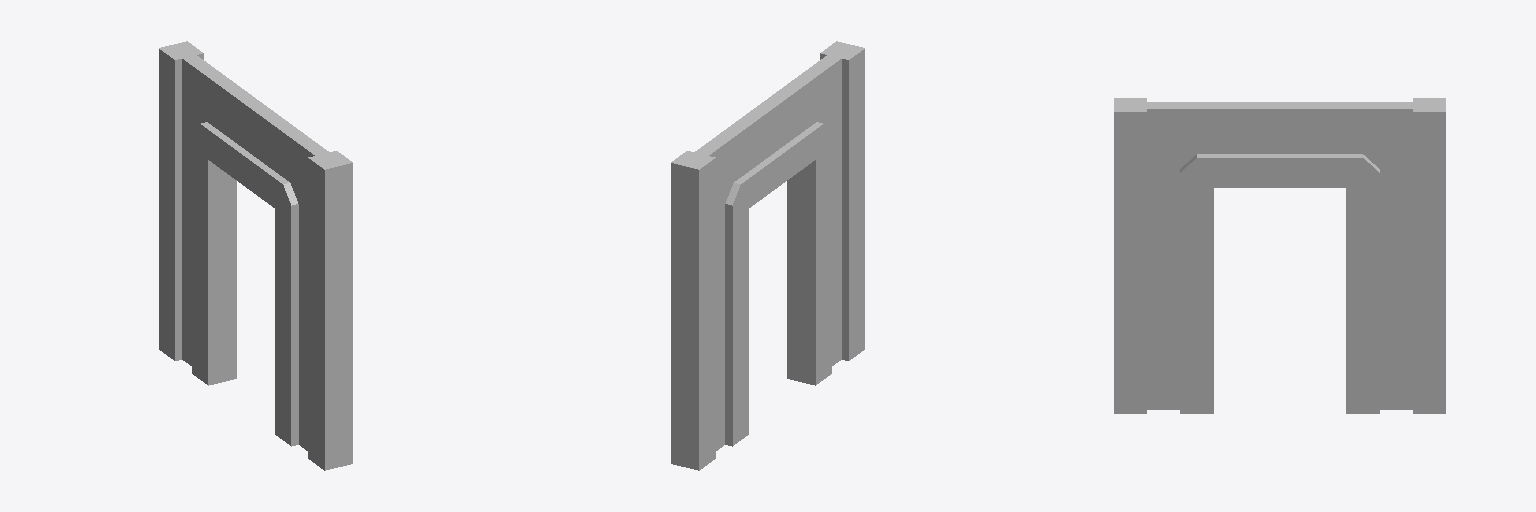
Rendered from wall-wood-doorway-square.obj.
3 views of the same model, side by side, from view 1: azimuth 30°, elevation 25°; view 2: azimuth 150°, elevation 25°; view 3: azimuth 270°, elevation 25° (orthographic).
Visible parts, largest first — view 1: wall-wood-doorway-square; view 2: wall-wood-doorway-square; view 3: wall-wood-doorway-square.
Part boxes in pixels (x1,y1,x2,y2): wall-wood-doorway-square: (159,41,352,470); wall-wood-doorway-square: (671,41,864,470); wall-wood-doorway-square: (1114,98,1445,413).
Size of the model in its own units: 0.1 by 1 by 1.